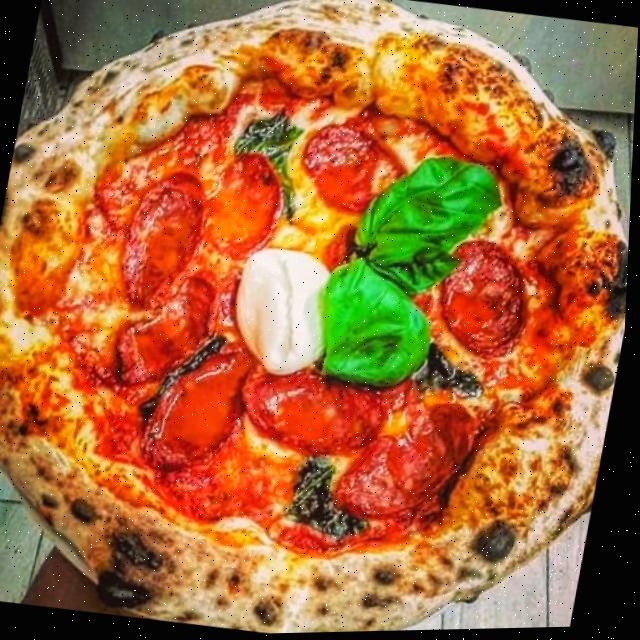basil: (348, 142, 517, 311), (306, 249, 451, 402), (224, 109, 314, 221), (287, 452, 385, 551), (141, 325, 231, 428), (415, 339, 498, 409)
pepperoni: (335, 387, 492, 533), (235, 357, 396, 469), (110, 258, 233, 398), (142, 345, 265, 484), (112, 163, 218, 317), (432, 237, 547, 367), (198, 148, 294, 265), (293, 120, 399, 221), (320, 215, 361, 275)
pizza: (0, 0, 640, 640)
